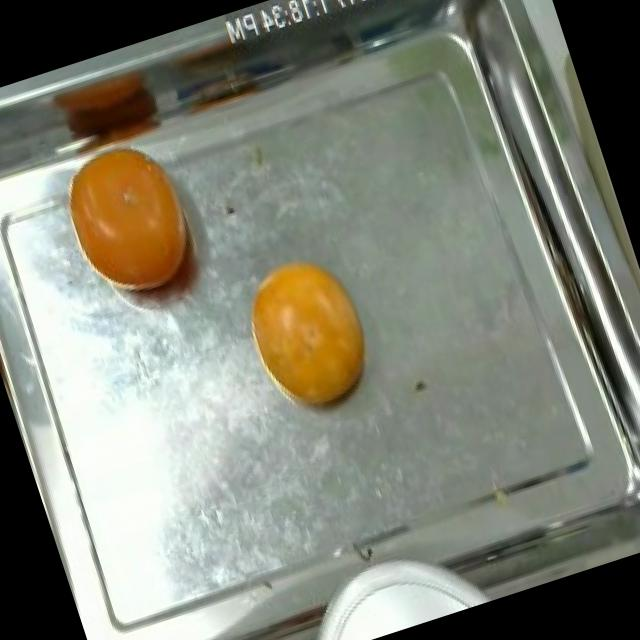Fruit: (48, 124, 222, 321), (226, 235, 394, 432), (32, 42, 185, 182)
